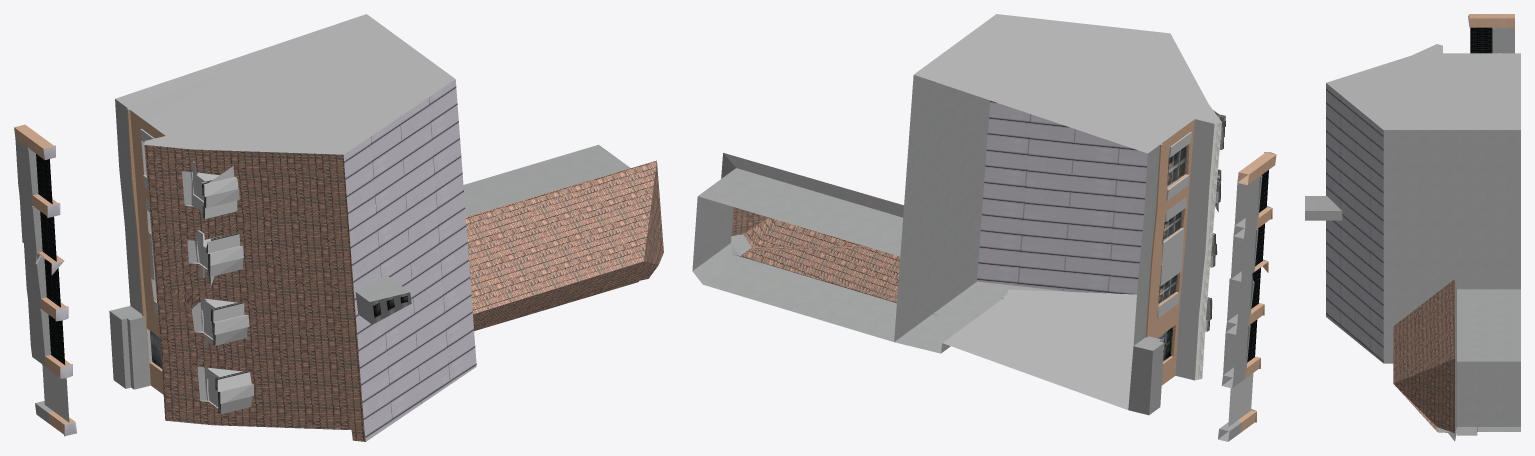
File: Uus_18-origo.obj
3 renders of one model, left to right at view 1: azimuth 30°, elevation 25°; view 2: azimuth 150°, elevation 25°; view 3: azimuth 270°, elevation 25°, orthographic. The views are drawn at different scales.
Parts seen in each view (by area): view 1: Uus_18, Uus_18_aed; view 2: Uus_18, Uus_18_aed; view 3: Uus_18, Uus_18_aed.
Part boxes in pixels (x1=…): Uus_18: x1=109, y1=14, x2=663, y2=441; Uus_18_aed: x1=14, y1=124, x2=76, y2=436; Uus_18: x1=692, y1=14, x2=1225, y2=415; Uus_18_aed: x1=1218, y1=152, x2=1276, y2=441; Uus_18: x1=1305, y1=44, x2=1520, y2=441; Uus_18_aed: x1=1468, y1=14, x2=1514, y2=53.
Bounding box in the file's own units: 27.31 × 13.5 × 10.84.
